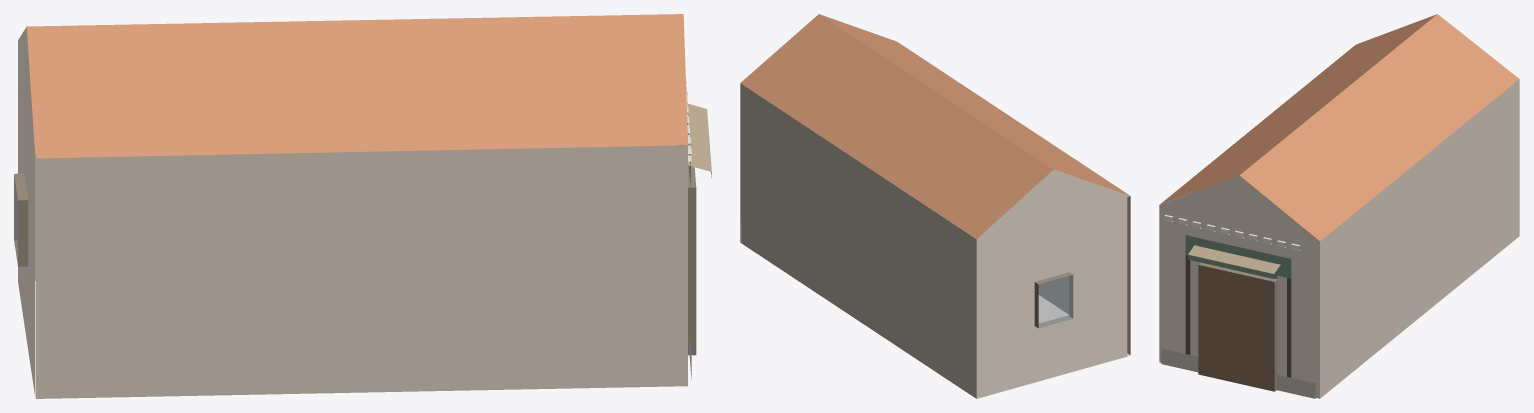
3 renders of one model, left to right at view 1: azimuth 30°, elevation 25°; view 2: azimuth 150°, elevation 25°; view 3: azimuth 270°, elevation 25°, orthographic. The views are drawn at different scales.
Visible parts, largest first — view 1: E-14; view 2: E-14; view 3: E-14.
Part boxes in pixels (x1,y1,x2,y2): E-14: [14, 14, 711, 398]; E-14: [740, 14, 1130, 398]; E-14: [1159, 14, 1519, 398].
Size of the model in its own units: 10.19 by 4.95 by 7.88.
